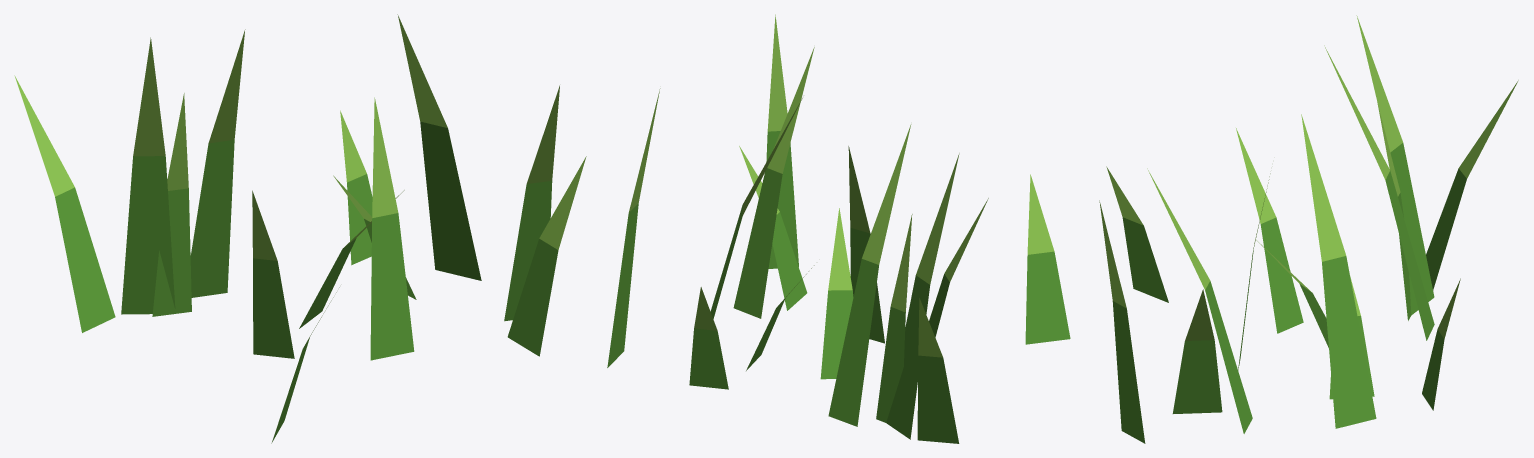
File: Grass_Wide.fbx
The picture shows the model from 3 angles, left to right: view 1: azimuth 30°, elevation 25°; view 2: azimuth 150°, elevation 25°; view 3: azimuth 270°, elevation 25°; orthographic projection. The views are drawn at different scales.
Parts seen in each view (by area): view 1: Grass_Wide; view 2: Grass_Wide; view 3: Grass_Wide.
Boxes of the visible parts, x1,y1,x2,y2 form: Grass_Wide: [14, 14, 660, 443]; Grass_Wide: [689, 14, 1070, 443]; Grass_Wide: [1099, 15, 1518, 443].
Size of the model in its own units: 1.34 by 0.9884 by 1.35.
